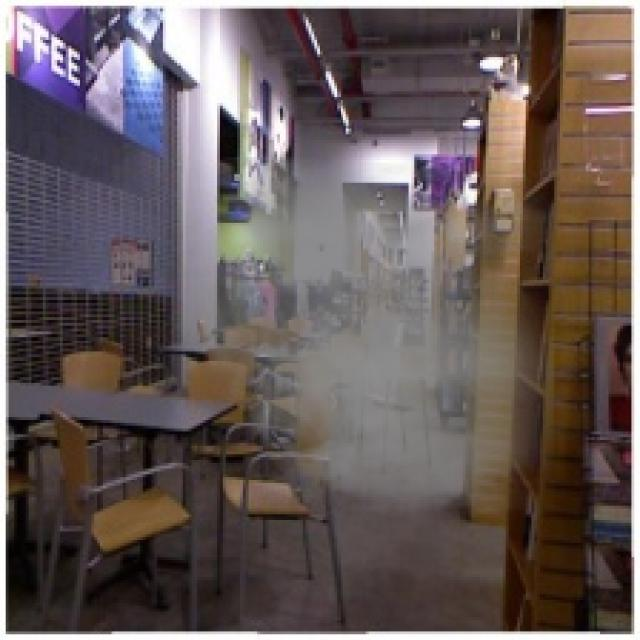smoke: (163, 157, 554, 517)
